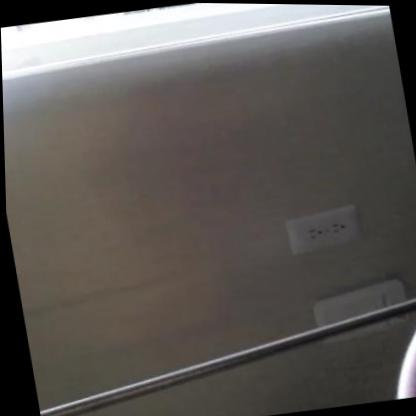OUTLET: (282, 207, 359, 255)
